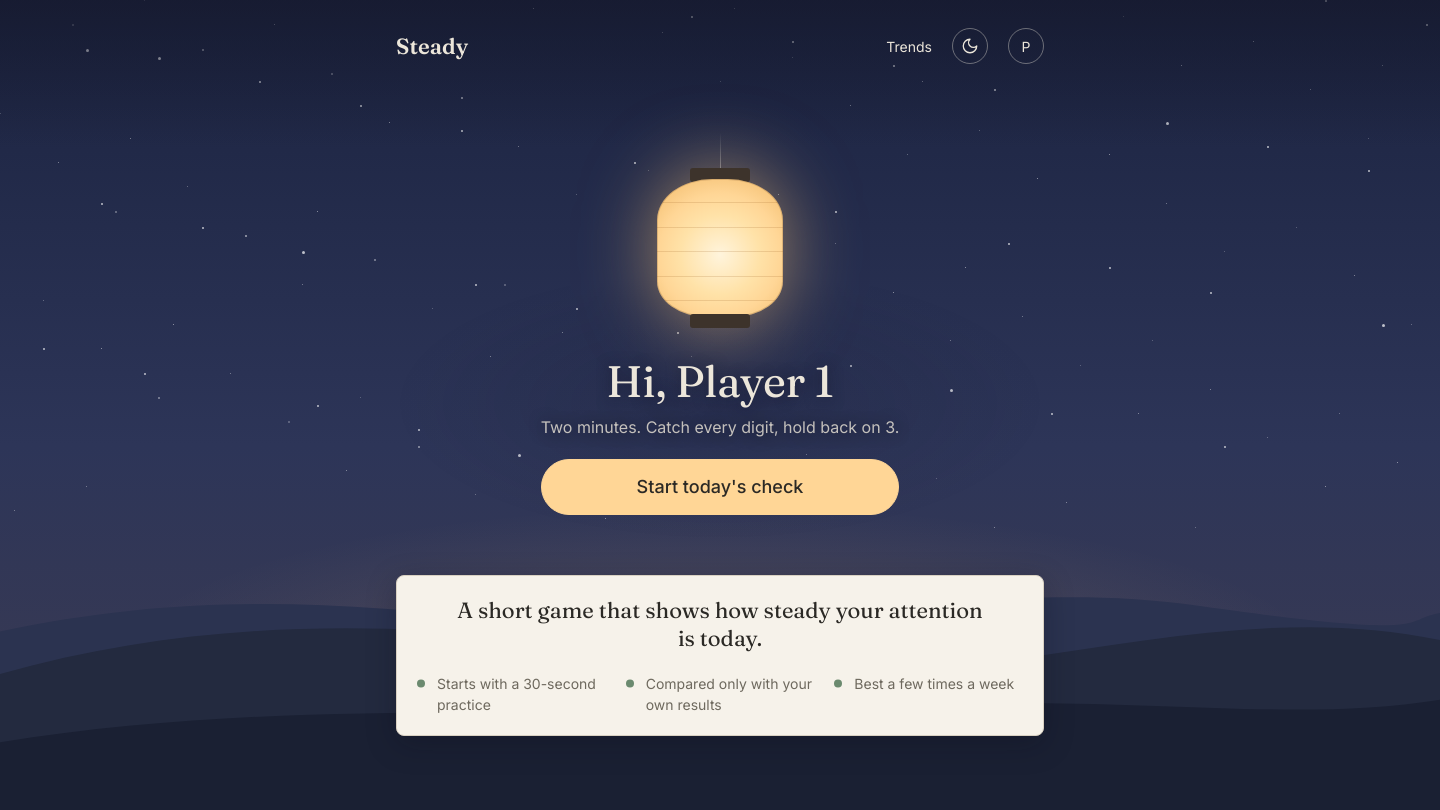
Test: layout and player menu › closes when you click outside it or Tab away
Click the button named "Player: " at [1026, 46], box 1008,28 -> 1044,64
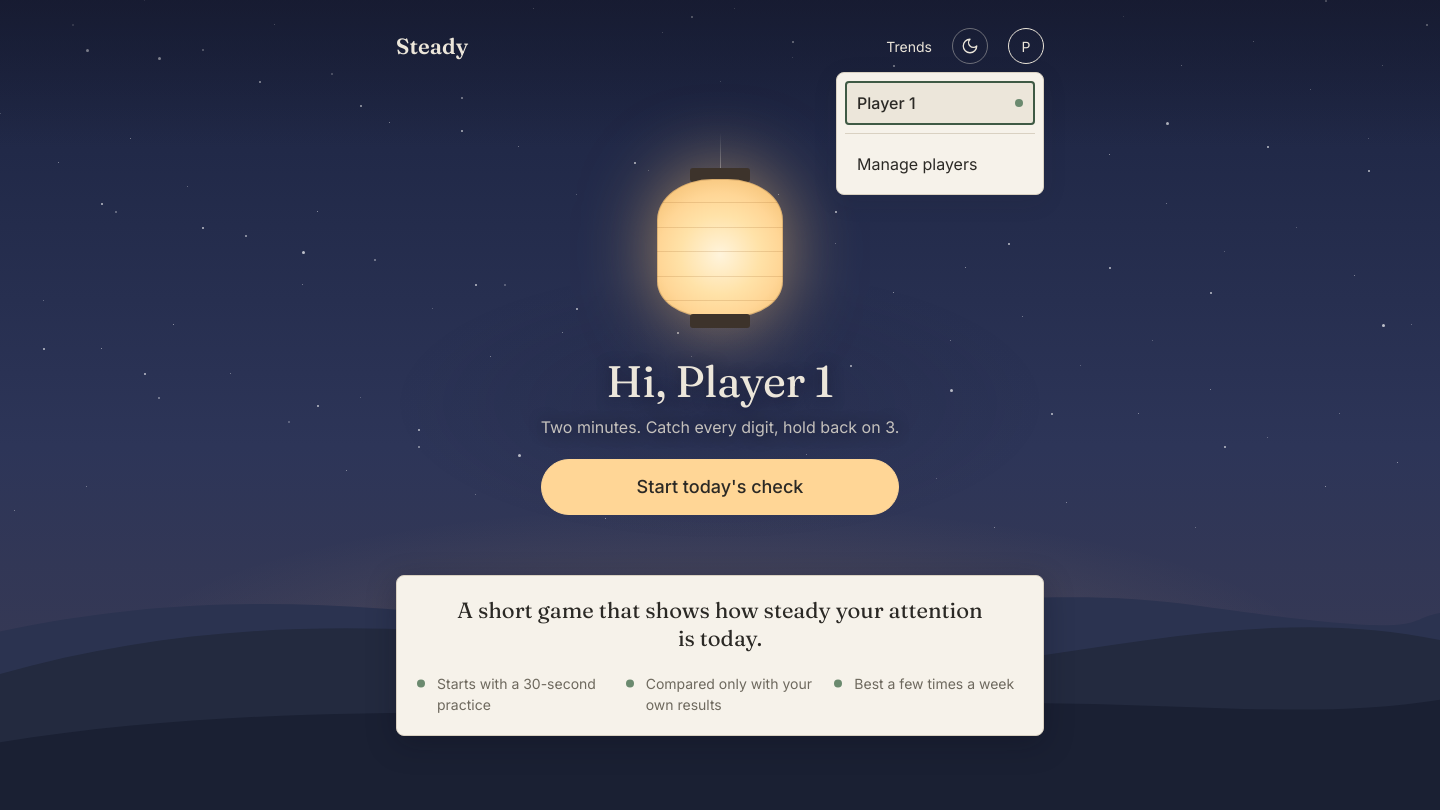
Click the heading "Hi, Player 1" at [720, 381], box 606,356 -> 834,407
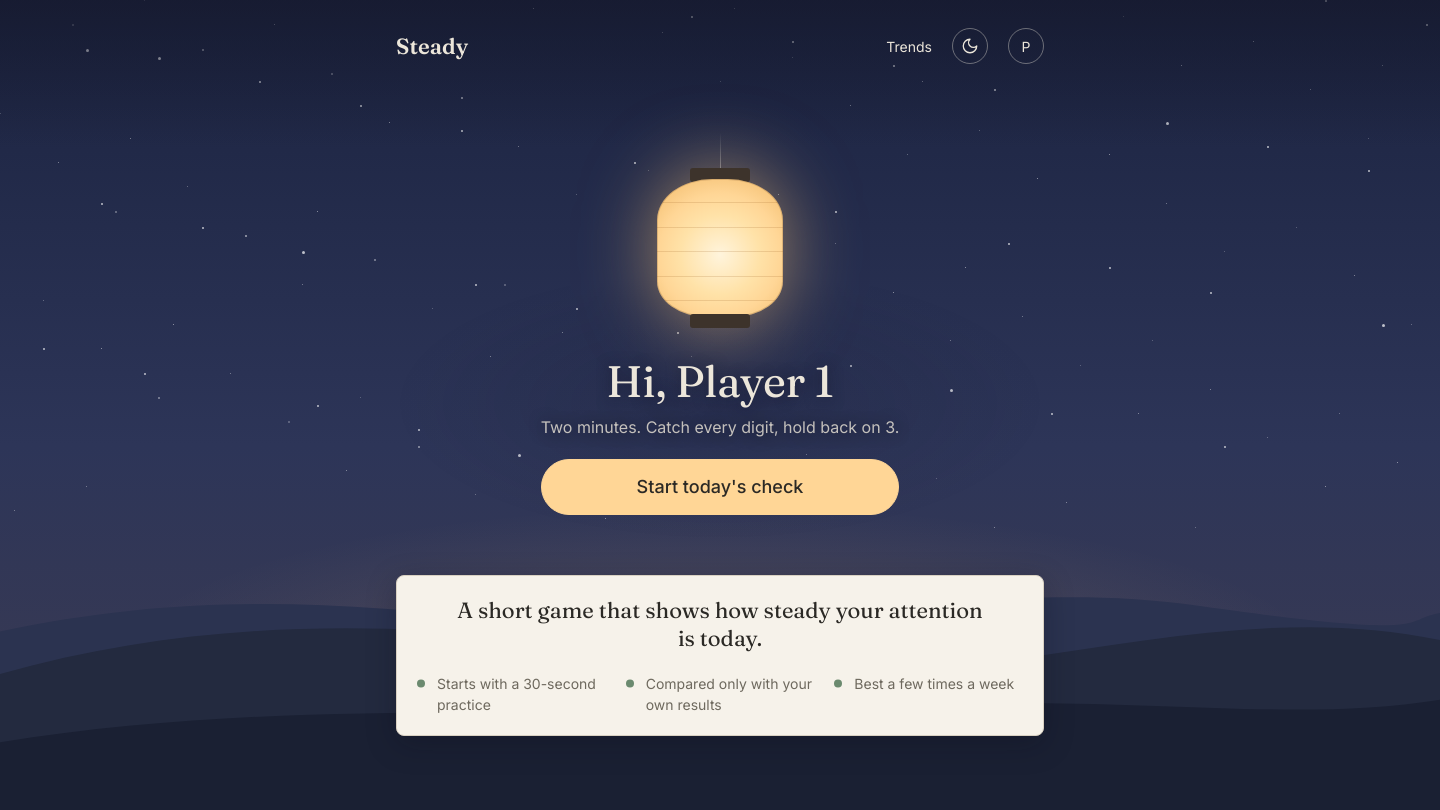
Result: the menu is gone
Click the button named "Player: " at [1026, 46], box 1008,28 -> 1044,64
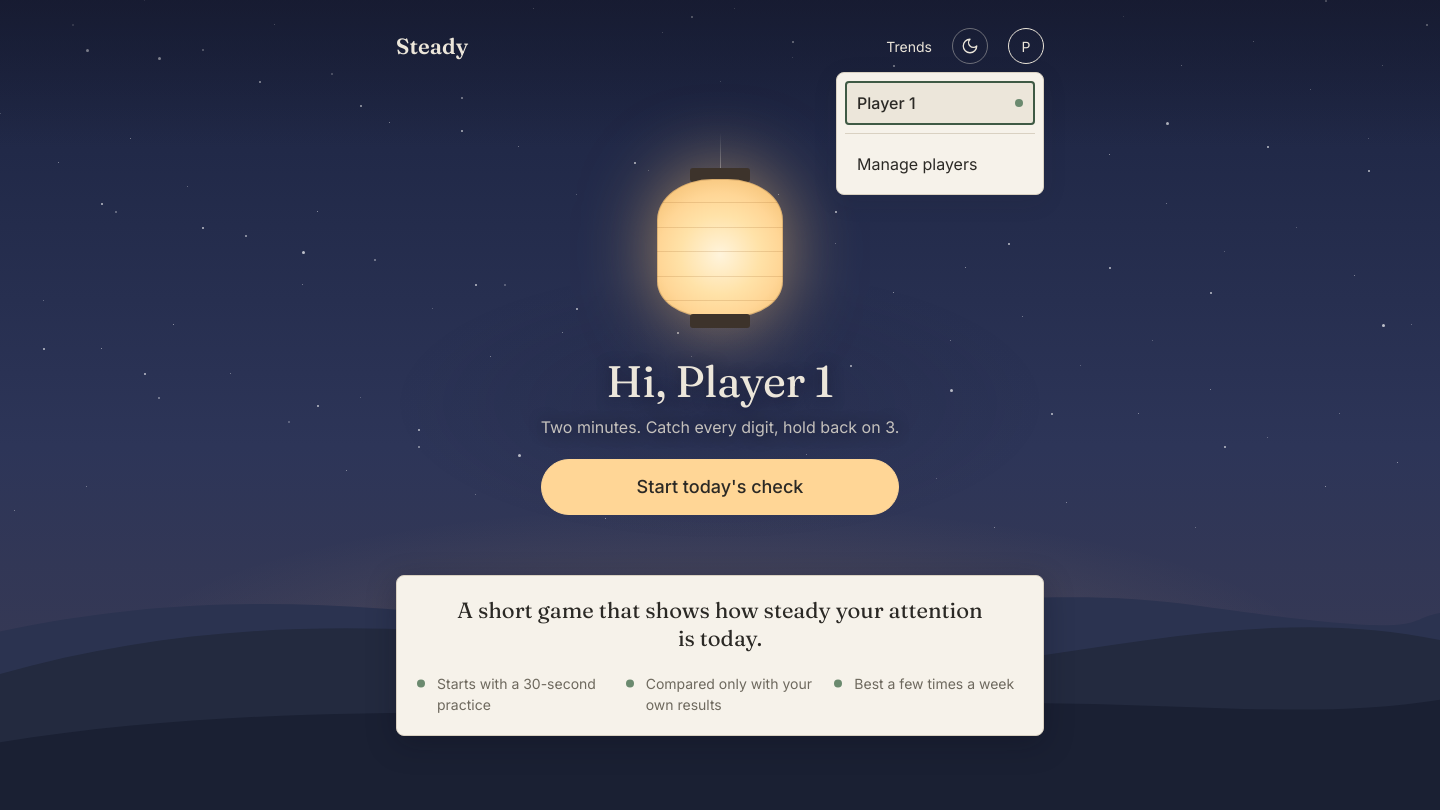
Press Tab
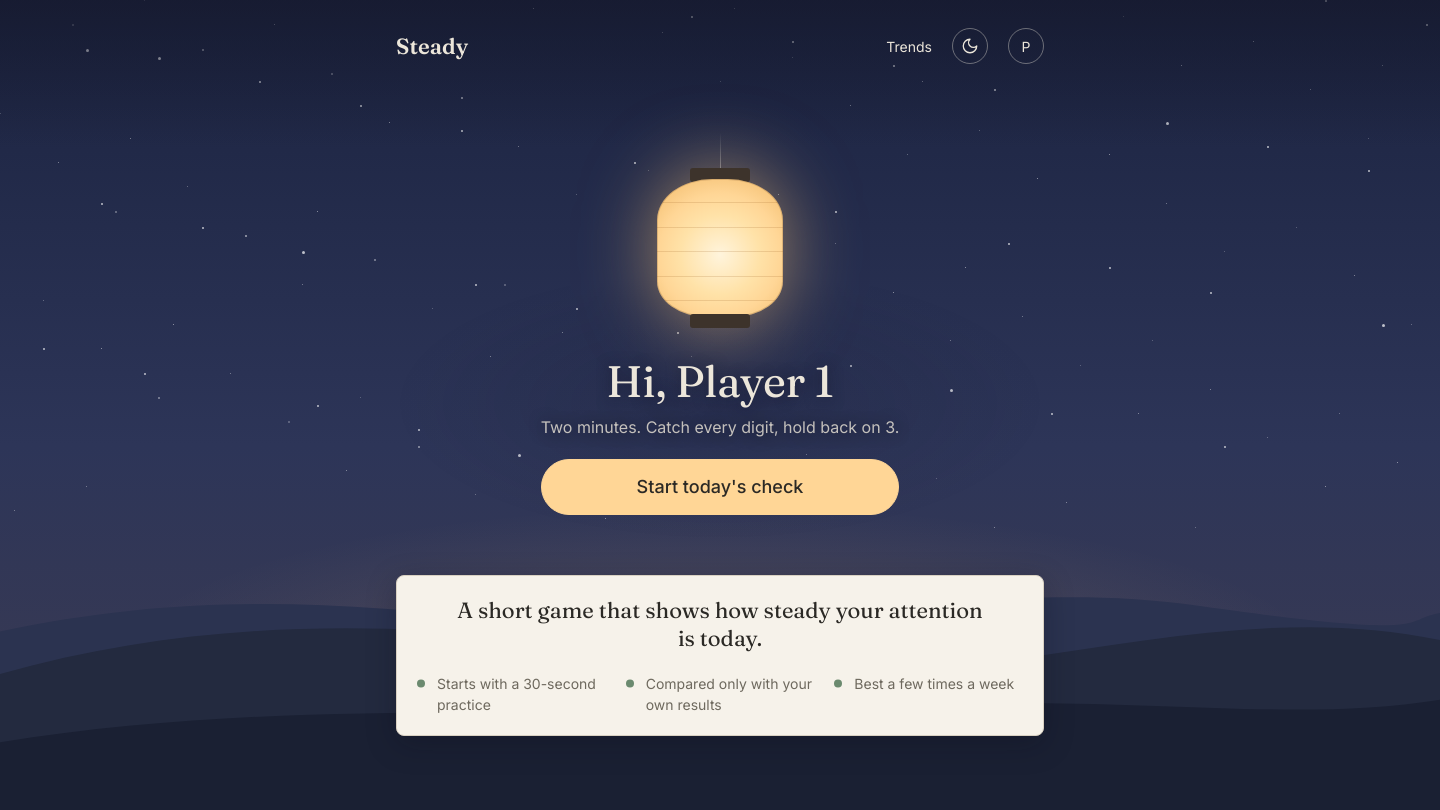
Result: the menu is gone
